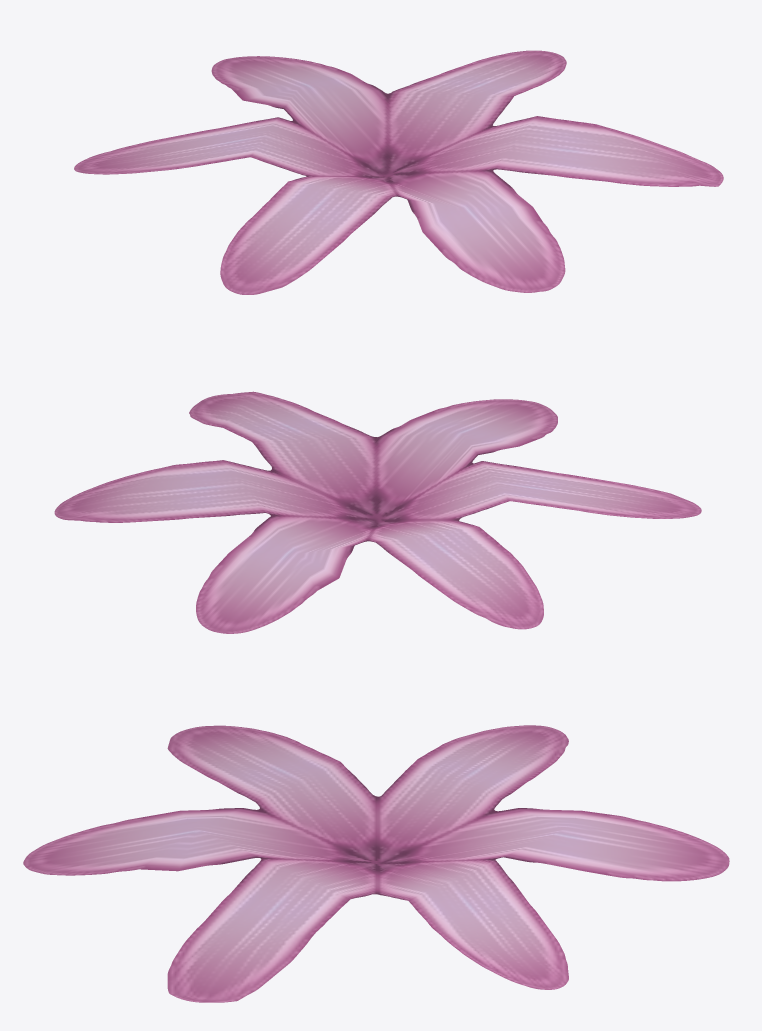
Rendered from Flower06.glb.
3 views of the same model, one above another, from view 1: azimuth 30°, elevation 25°; view 2: azimuth 150°, elevation 25°; view 3: azimuth 270°, elevation 25° (orthographic). The views are drawn at different scales.
Parts seen in each view (by area): view 1: Flower06; view 2: Flower06; view 3: Flower06.
Part boxes in pixels (<box>): Flower06: <box>74,50,723,294</box>; Flower06: <box>54,391,701,633</box>; Flower06: <box>23,725,729,1002</box>.
Size of the model in its own units: 0.6029 by 0.0375 by 0.6029.
1 material, 1 textured.
